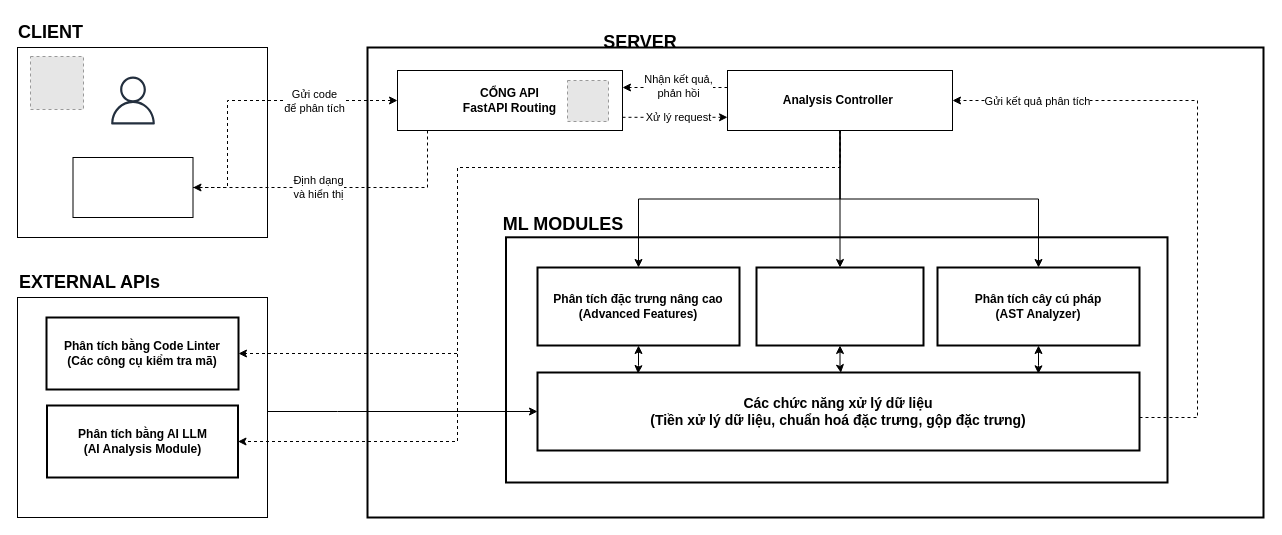
Image size: 1282x535. Some labels were removed from this diagram. Grey dashed boxes stand in for pictures. The centre of each missing label's shape, as x and y in pixels:
"Phân tích phong cách (Style Analyzer)" belongs at (839,306).
"User" belongs at (132,100).
"WEB BROWSER" belongs at (132,187).
